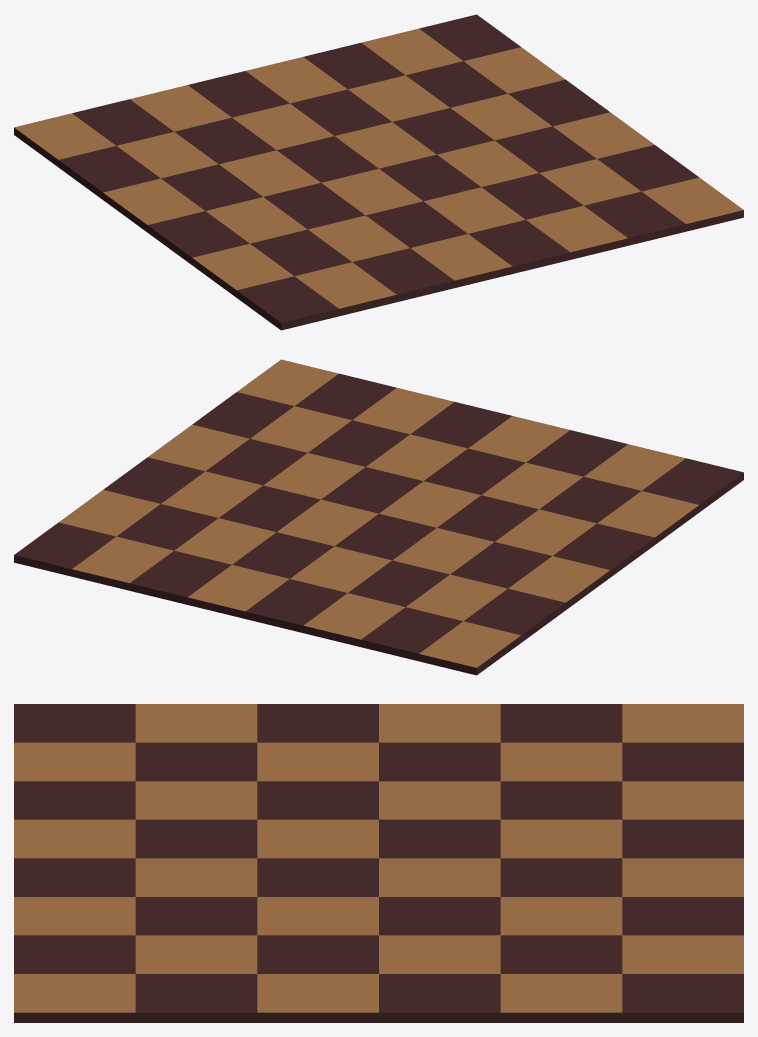
Rendered from RoomGround.fbx.
3 renders of one model, top to bottom at view 1: azimuth 30°, elevation 25°; view 2: azimuth 150°, elevation 25°; view 3: azimuth 270°, elevation 25°, orthographic. The views are drawn at different scales.
Parts seen in each view (by area): view 1: RoomGround; view 2: RoomGround; view 3: RoomGround.
Boxes of the visible parts, bbox=[...] form: RoomGround: bbox=[14, 14, 743, 330]; RoomGround: bbox=[14, 359, 743, 675]; RoomGround: bbox=[14, 704, 743, 1022].
Size of the model in its own units: 5.12 by 0.08 by 5.12.
